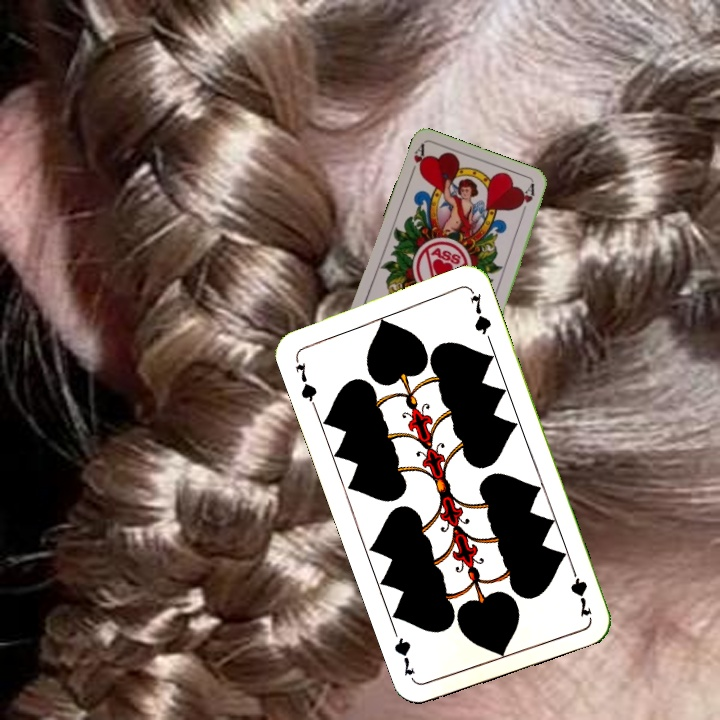G7: (566, 561, 595, 620), (291, 352, 320, 409)
HA: (406, 141, 430, 181)
